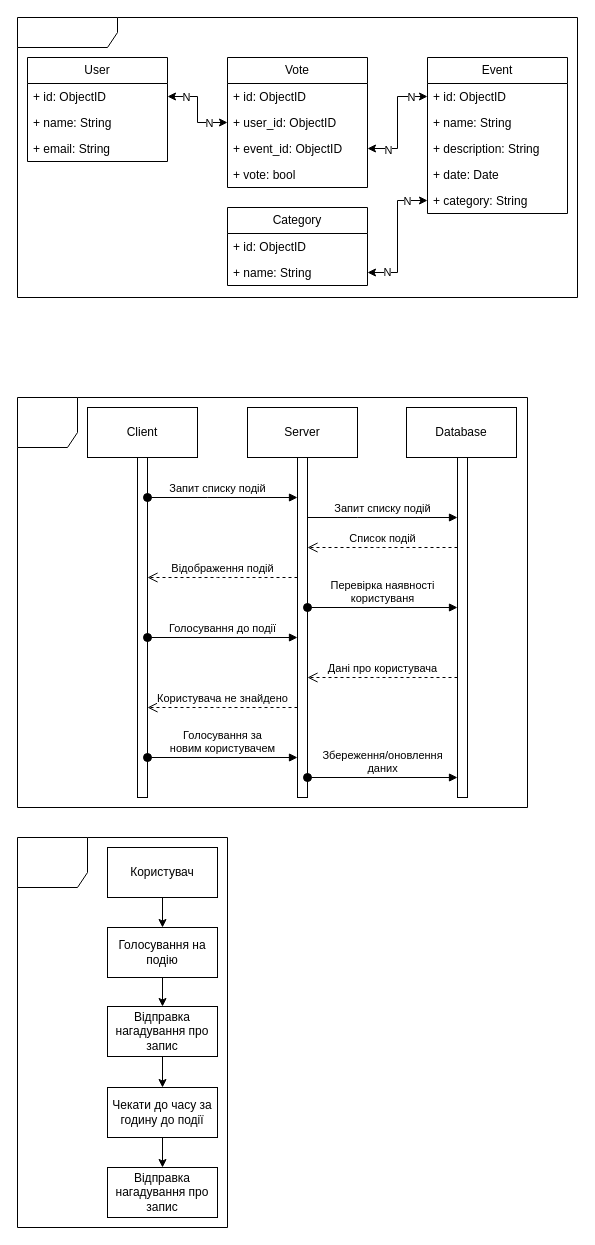
Some shapes in this 595 by 1245 pixel diagram are drawn without their labels. The box of each missing label's shape, as (x1, y1, x2, y2) in pixels:
Activity diagram: (16, 396, 528, 808)
Class diagram: (16, 16, 578, 298)
Component diagram: (16, 836, 228, 1228)
